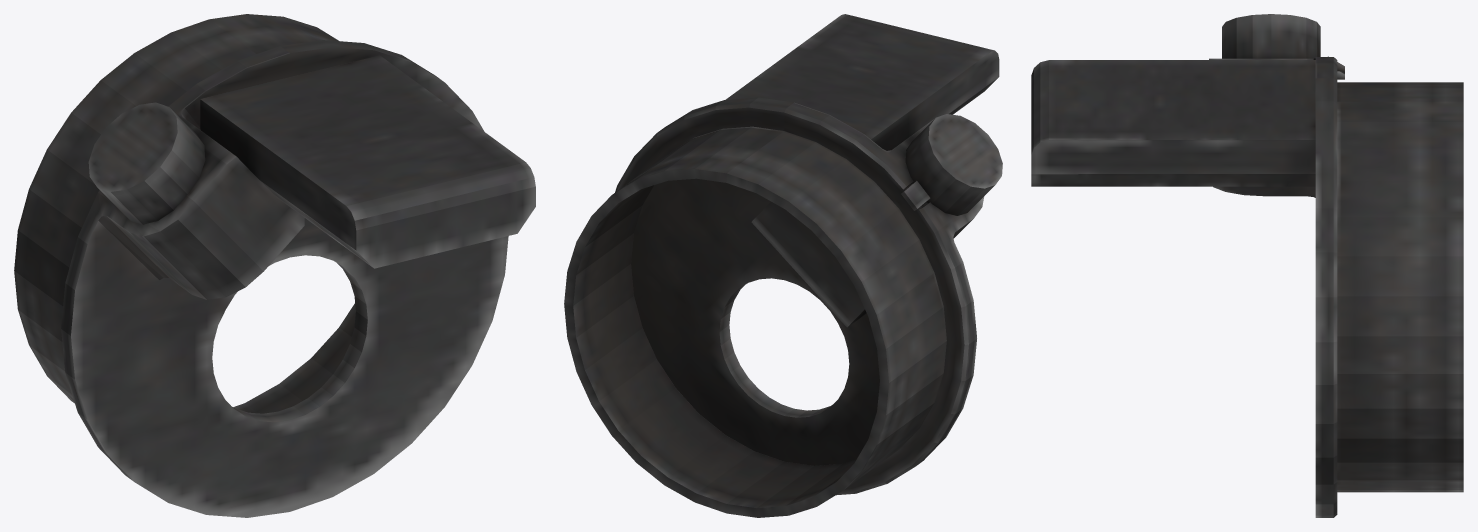
3 views of the same model, side by side, from view 1: azimuth 30°, elevation 25°; view 2: azimuth 150°, elevation 25°; view 3: azimuth 270°, elevation 25° (orthographic). The views are drawn at different scales.
Parts seen in each view (by area): view 1: TW_5a27b3d0c4a282000d721ec1_PZ_Import; view 2: TW_5a27b3d0c4a282000d721ec1_PZ_Import; view 3: TW_5a27b3d0c4a282000d721ec1_PZ_Import.
Part boxes in pixels (bbox=[...]): TW_5a27b3d0c4a282000d721ec1_PZ_Import: bbox=[14, 14, 535, 517]; TW_5a27b3d0c4a282000d721ec1_PZ_Import: bbox=[564, 14, 1002, 517]; TW_5a27b3d0c4a282000d721ec1_PZ_Import: bbox=[1031, 14, 1463, 517].
Bounding box in the file's own units: 0.0223 × 0.0209 × 0.0223.
Materials: 1 (1 with a texture image).
